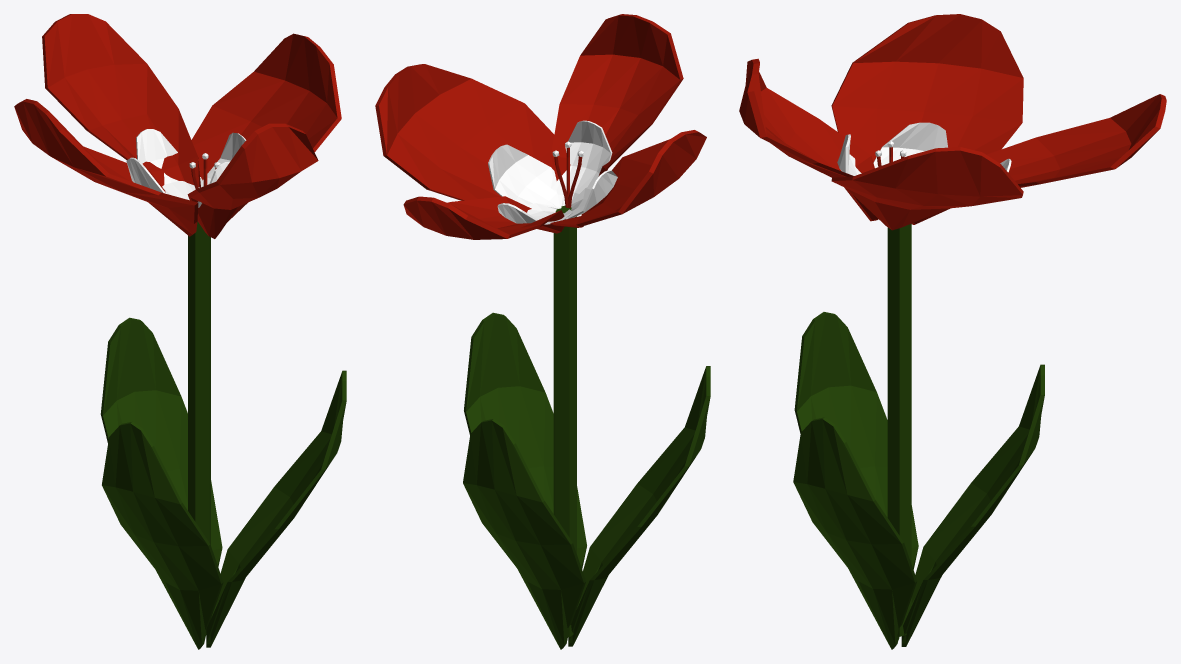
The model's file is Flower_1.FBX.
3 renders of one model, left to right at view 1: azimuth 30°, elevation 25°; view 2: azimuth 150°, elevation 25°; view 3: azimuth 270°, elevation 25°, orthographic.
Parts seen in each view (by area): view 1: Flower1; view 2: Flower1; view 3: Flower1.
Boxes of the visible parts, bbox=[...] form: Flower1: bbox=[14, 14, 346, 649]; Flower1: bbox=[375, 14, 710, 649]; Flower1: bbox=[739, 14, 1166, 649].
Size of the model in its own units: 30.38 by 60.56 by 40.2.
